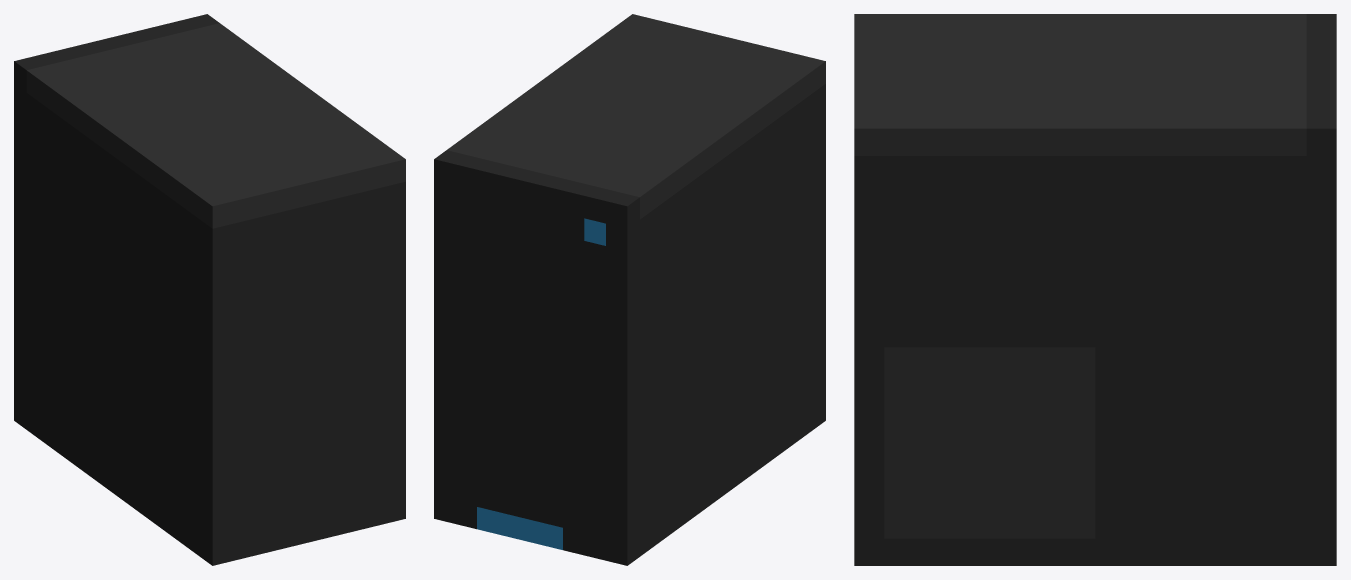
The model's file is computer_tower.dae.
3 views of the same model, side by side, from view 1: azimuth 30°, elevation 25°; view 2: azimuth 150°, elevation 25°; view 3: azimuth 270°, elevation 25° (orthographic). The views are drawn at different scales.
Parts seen in each view (by area): view 1: Untitled.001; view 2: Untitled.001, Untitled; view 3: Untitled.001.
Boxes of the visible parts, x1,y1,x2,y2 form: Untitled.001: (14,14,405,565); Untitled.001: (434,14,825,565); Untitled: (477,218,605,549); Untitled.001: (854,14,1336,565).
Bounding box in the file's own units: 0.27 × 0.48 × 0.48.
2 materials, 2 textured.
